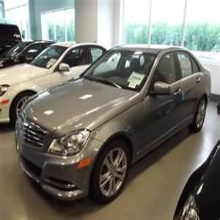no damage: (15, 44, 212, 206), (1, 41, 111, 127)
